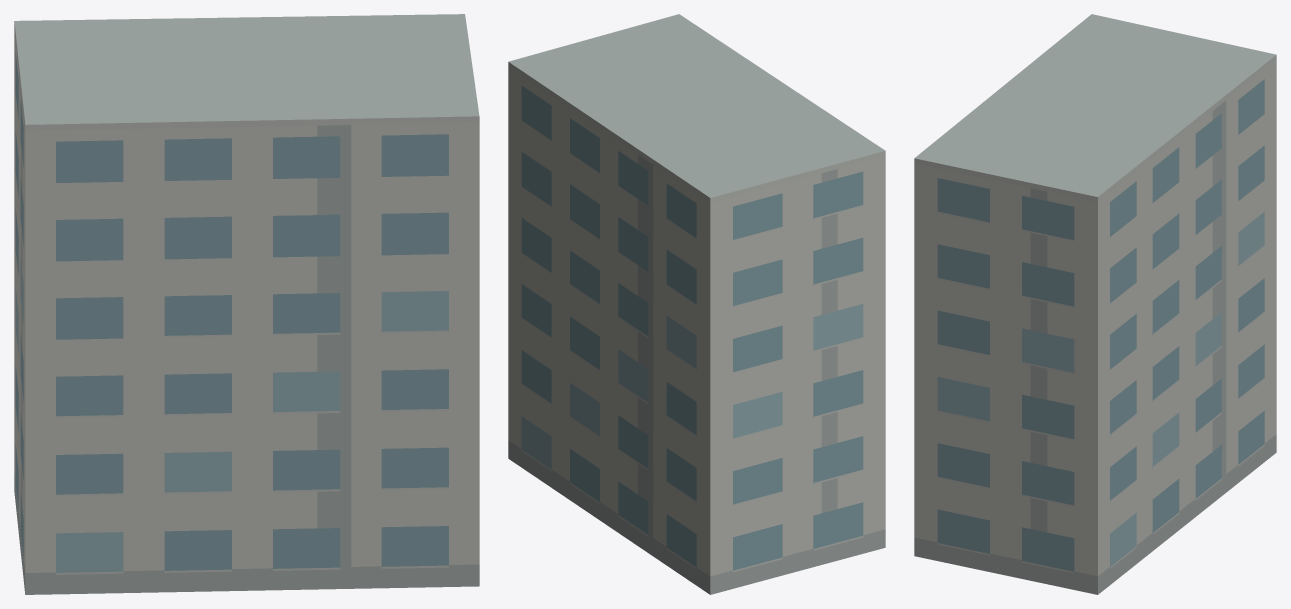
File: survey-upis-32926840.glb
3 renders of one model, left to right at view 1: azimuth 30°, elevation 25°; view 2: azimuth 150°, elevation 25°; view 3: azimuth 270°, elevation 25°, orthographic. The views are drawn at different scales.
Parts seen in each view (by area): view 1: survey-upis-32926840.tmp; view 2: survey-upis-32926840.tmp; view 3: survey-upis-32926840.tmp.
Boxes of the visible parts, x1,y1,x2,y2 form: survey-upis-32926840.tmp: (14,14,479,594); survey-upis-32926840.tmp: (508,14,885,594); survey-upis-32926840.tmp: (914,14,1276,594).
Bounding box in the file's own units: 18.07 × 18.3 × 15.12.
